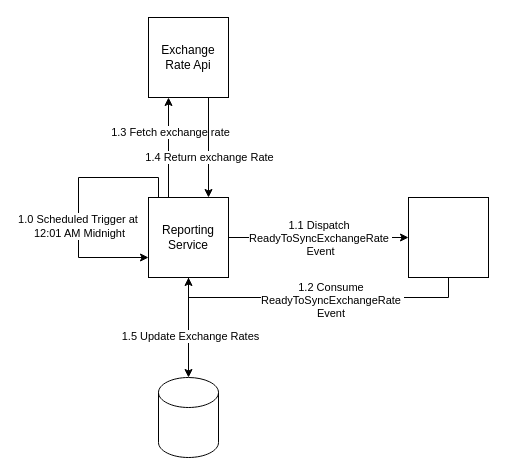
The diagram is 506 pixels wide and 475 high, and some of its shapes have lost their labels. The box of each missing label's shape, as (x1, y1, x2, y2) in pixels:
Event Broker: (408, 196, 488, 278)
Reporting Db: (158, 376, 218, 458)
